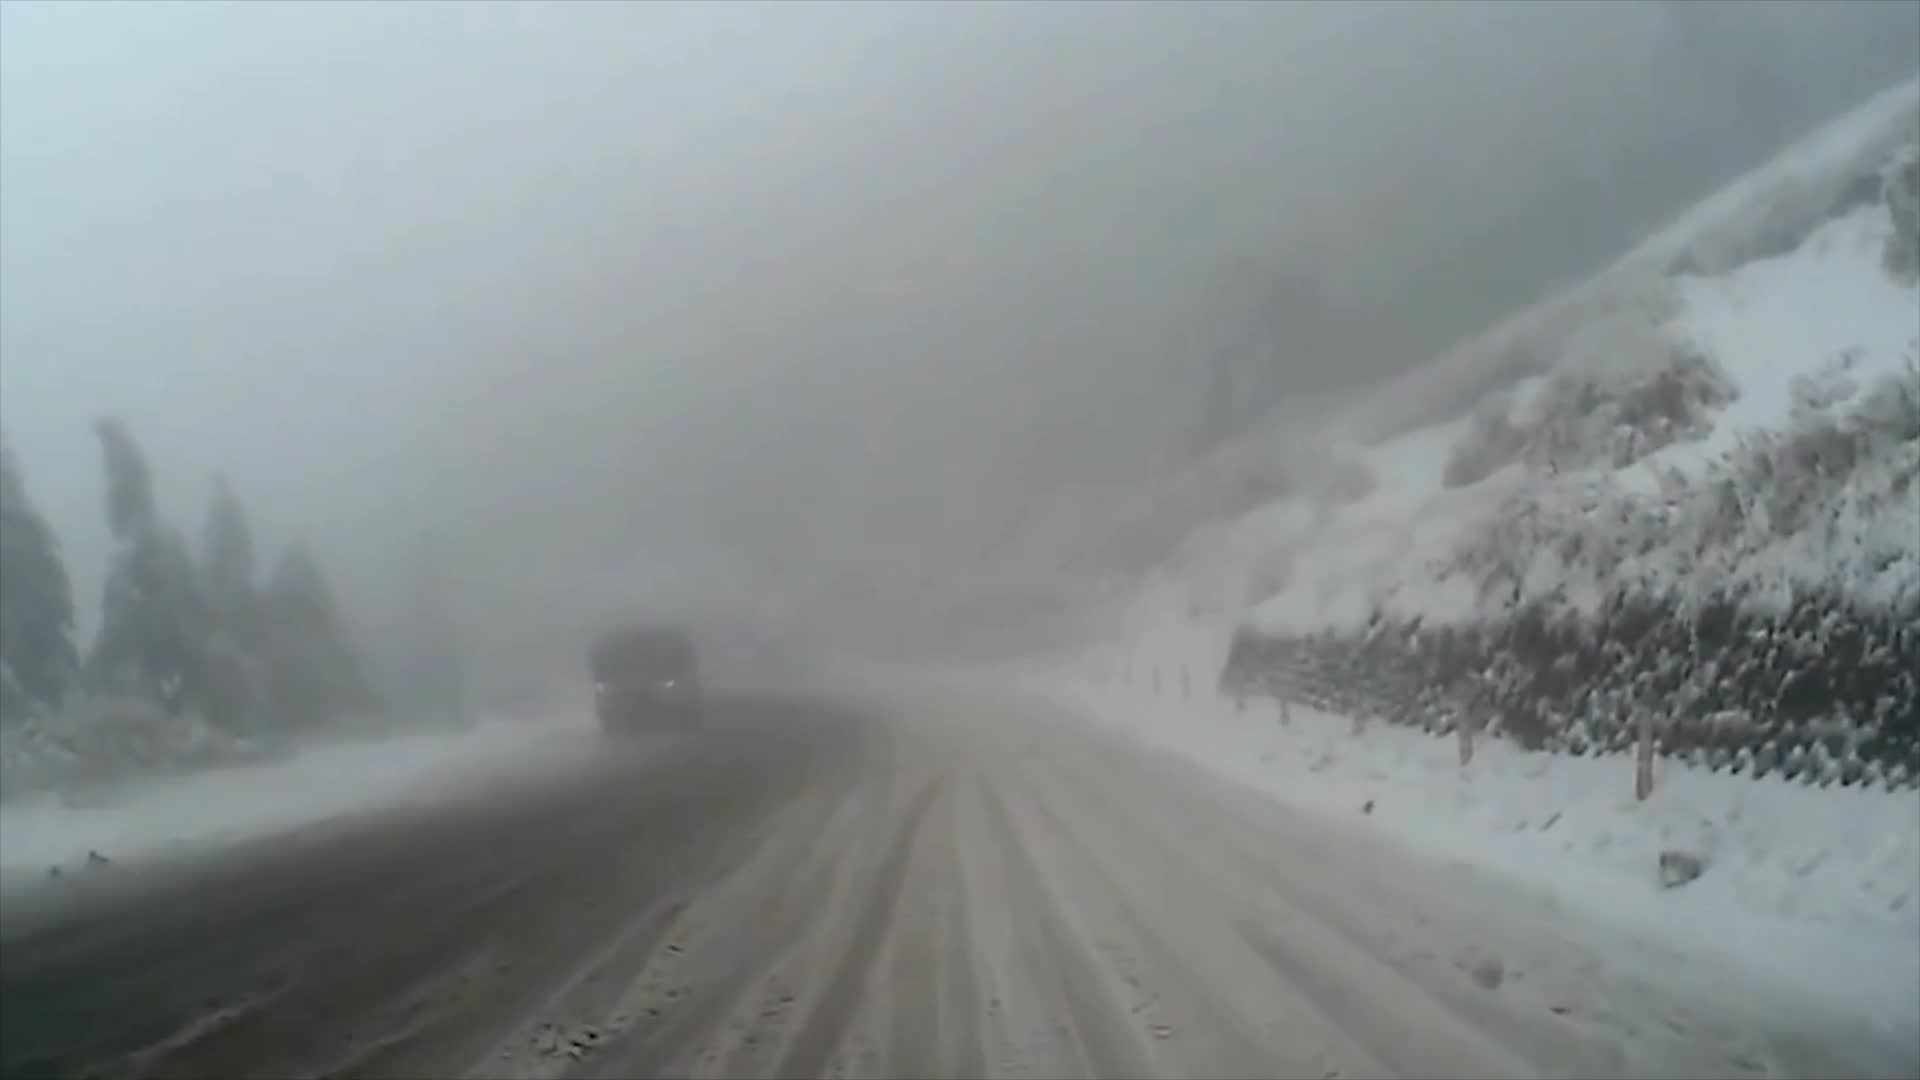vehicle: (582, 628, 698, 735)
